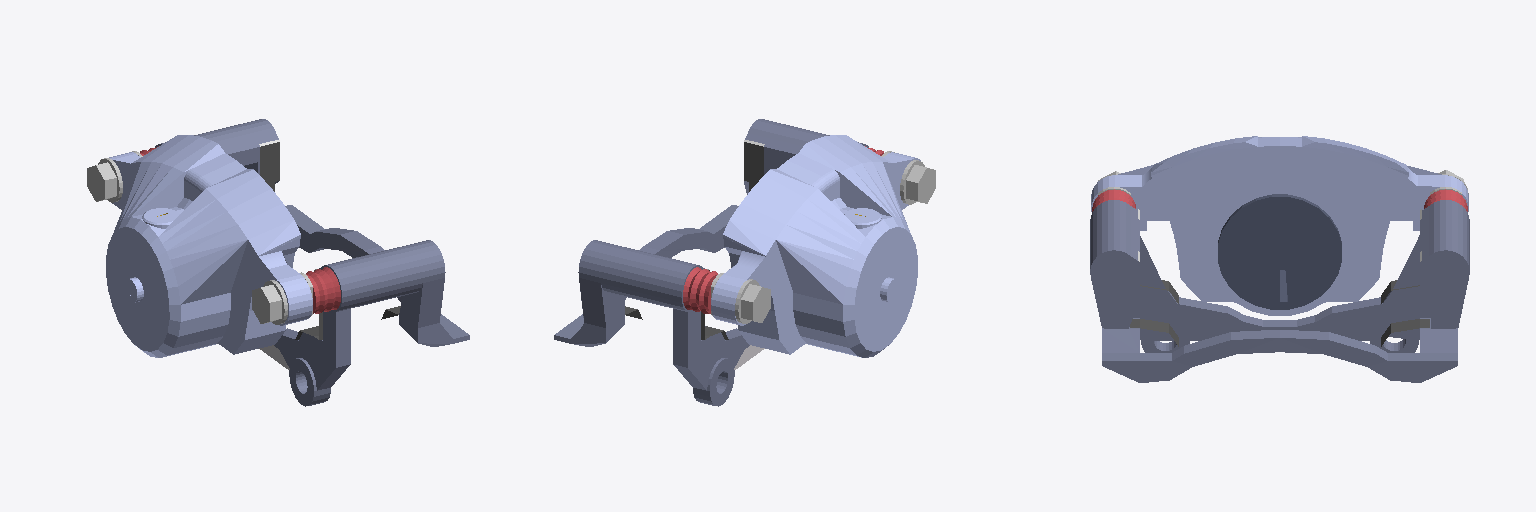
Rendered from caliper_outer.obj.
3 renders of one model, left to right at view 1: azimuth 30°, elevation 25°; view 2: azimuth 150°, elevation 25°; view 3: azimuth 270°, elevation 25°, orthographic.
Parts seen in each view (by area): view 1: Mesh20 Group_12_2 Model, Mesh2 Group_8_2 Group2 Model, Mesh19 Group_12_1 Model, Mesh1 Group_8_1 Group1 Model, Mesh8 Group9 Model, Mesh12 Group11 Group10 Group_28_1 Model, Mesh16 Group14 Group13 Group_28_2 Model, Mesh11 Group_17_3 Model; view 2: Mesh19 Group_12_1 Model, Mesh1 Group_8_1 Group1 Model, Mesh20 Group_12_2 Model, Mesh2 Group_8_2 Group2 Model, Mesh5 Group6 Model, Mesh12 Group11 Group10 Group_28_1 Model, Mesh16 Group14 Group13 Group_28_2 Model, Mesh9 Group_17_1 Model; view 3: Mesh2 Group_8_2 Group2 Model, Mesh1 Group_8_1 Group1 Model, Mesh19 Group_12_1 Model, Mesh20 Group_12_2 Model, Mesh3 Group4 Group3 Model, Mesh4 Group5 Group3 Model.
Boxes of the visible parts, x1=… form: Mesh20 Group_12_2 Model: x1=131, y1=160, x2=312, y2=357; Mesh2 Group_8_2 Group2 Model: x1=259, y1=240, x2=469, y2=406; Mesh19 Group_12_1 Model: x1=106, y1=135, x2=235, y2=349; Mesh1 Group_8_1 Group1 Model: x1=155, y1=119, x2=379, y2=257; Mesh8 Group9 Model: x1=306, y1=267, x2=340, y2=313; Mesh12 Group11 Group10 Group_28_1 Model: x1=252, y1=285, x2=281, y2=323; Mesh16 Group14 Group13 Group_28_2 Model: x1=87, y1=162, x2=116, y2=201; Mesh11 Group_17_3 Model: x1=259, y1=140, x2=279, y2=191; Mesh19 Group_12_1 Model: x1=711, y1=160, x2=892, y2=357; Mesh1 Group_8_1 Group1 Model: x1=554, y1=240, x2=764, y2=406; Mesh20 Group_12_2 Model: x1=788, y1=135, x2=920, y2=349; Mesh2 Group_8_2 Group2 Model: x1=644, y1=119, x2=868, y2=257; Mesh5 Group6 Model: x1=683, y1=267, x2=717, y2=313; Mesh12 Group11 Group10 Group_28_1 Model: x1=906, y1=165, x2=935, y2=203; Mesh16 Group14 Group13 Group_28_2 Model: x1=741, y1=284, x2=770, y2=322; Mesh9 Group_17_1 Model: x1=744, y1=140, x2=764, y2=191; Mesh2 Group_8_2 Group2 Model: x1=1090, y1=200, x2=1279, y2=382; Mesh1 Group_8_1 Group1 Model: x1=1280, y1=200, x2=1469, y2=382; Mesh19 Group_12_1 Model: x1=1280, y1=136, x2=1468, y2=315; Mesh20 Group_12_2 Model: x1=1091, y1=136, x2=1279, y2=315; Mesh3 Group4 Group3 Model: x1=1218, y1=194, x2=1279, y2=309; Mesh4 Group5 Group3 Model: x1=1280, y1=194, x2=1341, y2=309.
Size of the model in its own units: 5.54 by 4.42 by 7.3.